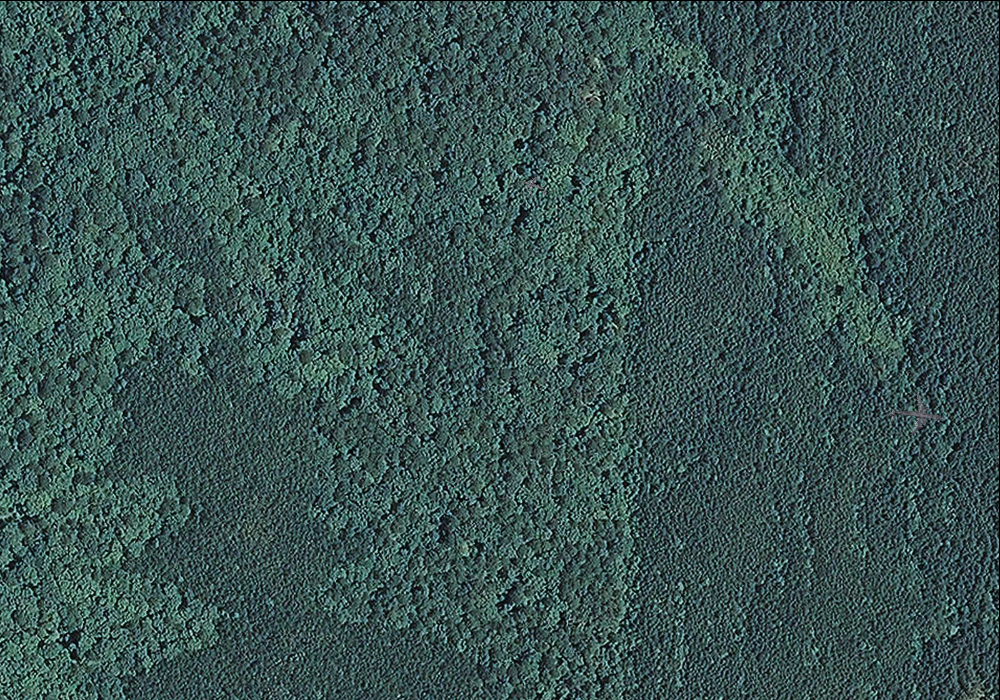plane: (887, 388, 946, 444), (516, 169, 550, 203)
